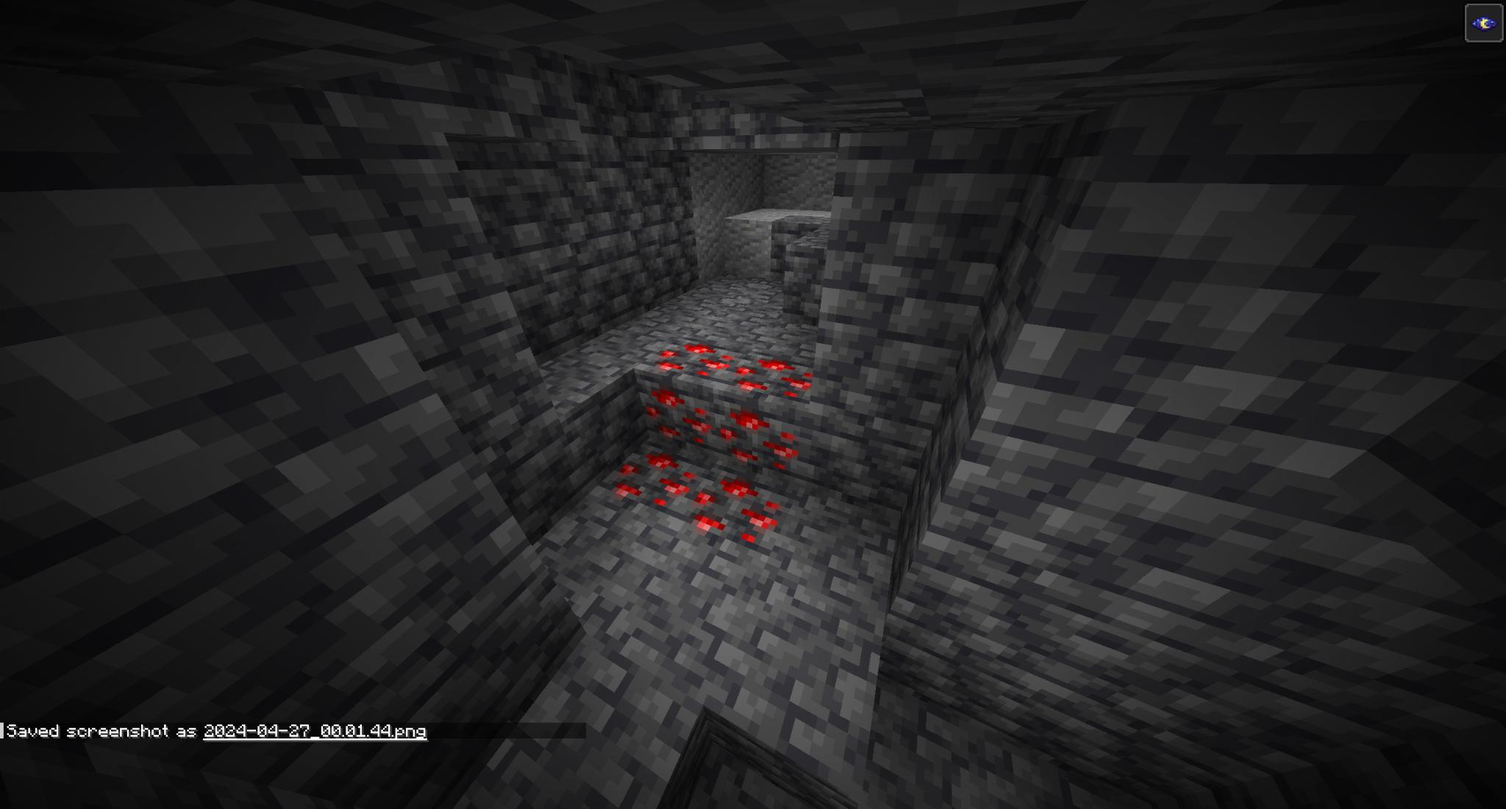redstone ore: (634, 334, 734, 449), (729, 352, 814, 467), (685, 471, 775, 549), (601, 440, 692, 515)
